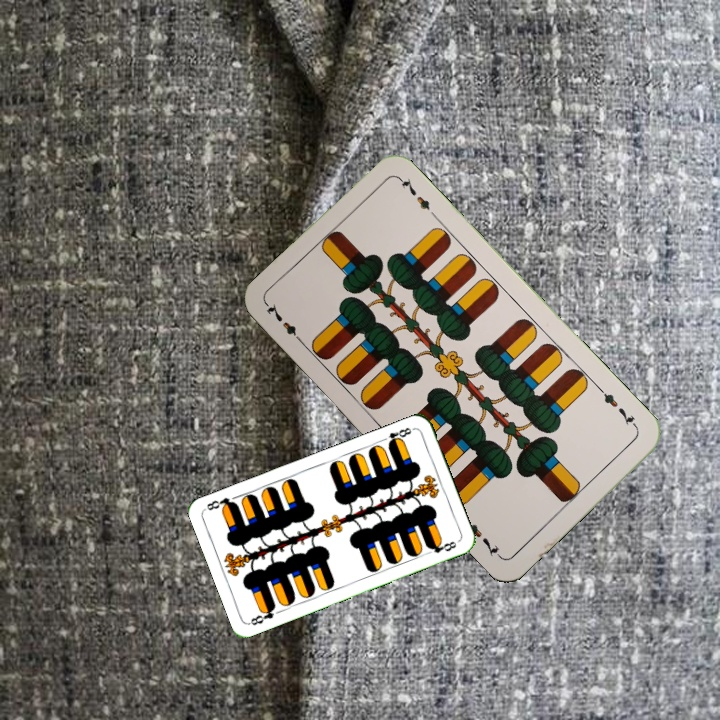E7: (595, 384, 640, 432), (262, 300, 307, 348)
E8: (377, 423, 414, 449), (246, 601, 278, 628)
